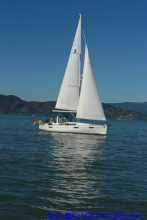fanchuan: (35, 10, 113, 145)
